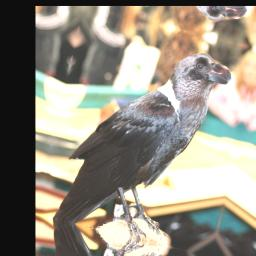Crow: (52, 25, 239, 253)
